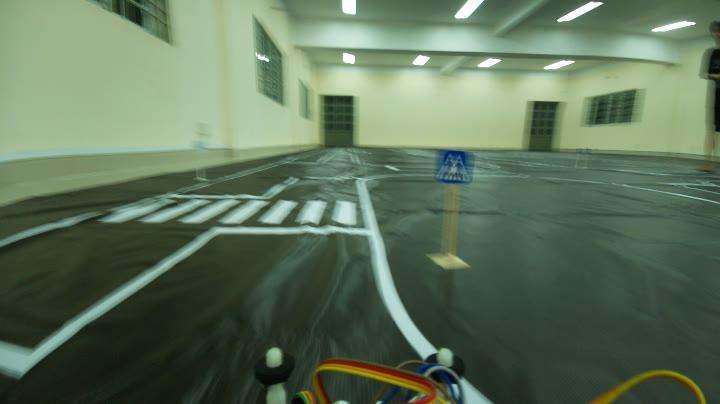crosswalk: (434, 139, 476, 195)
